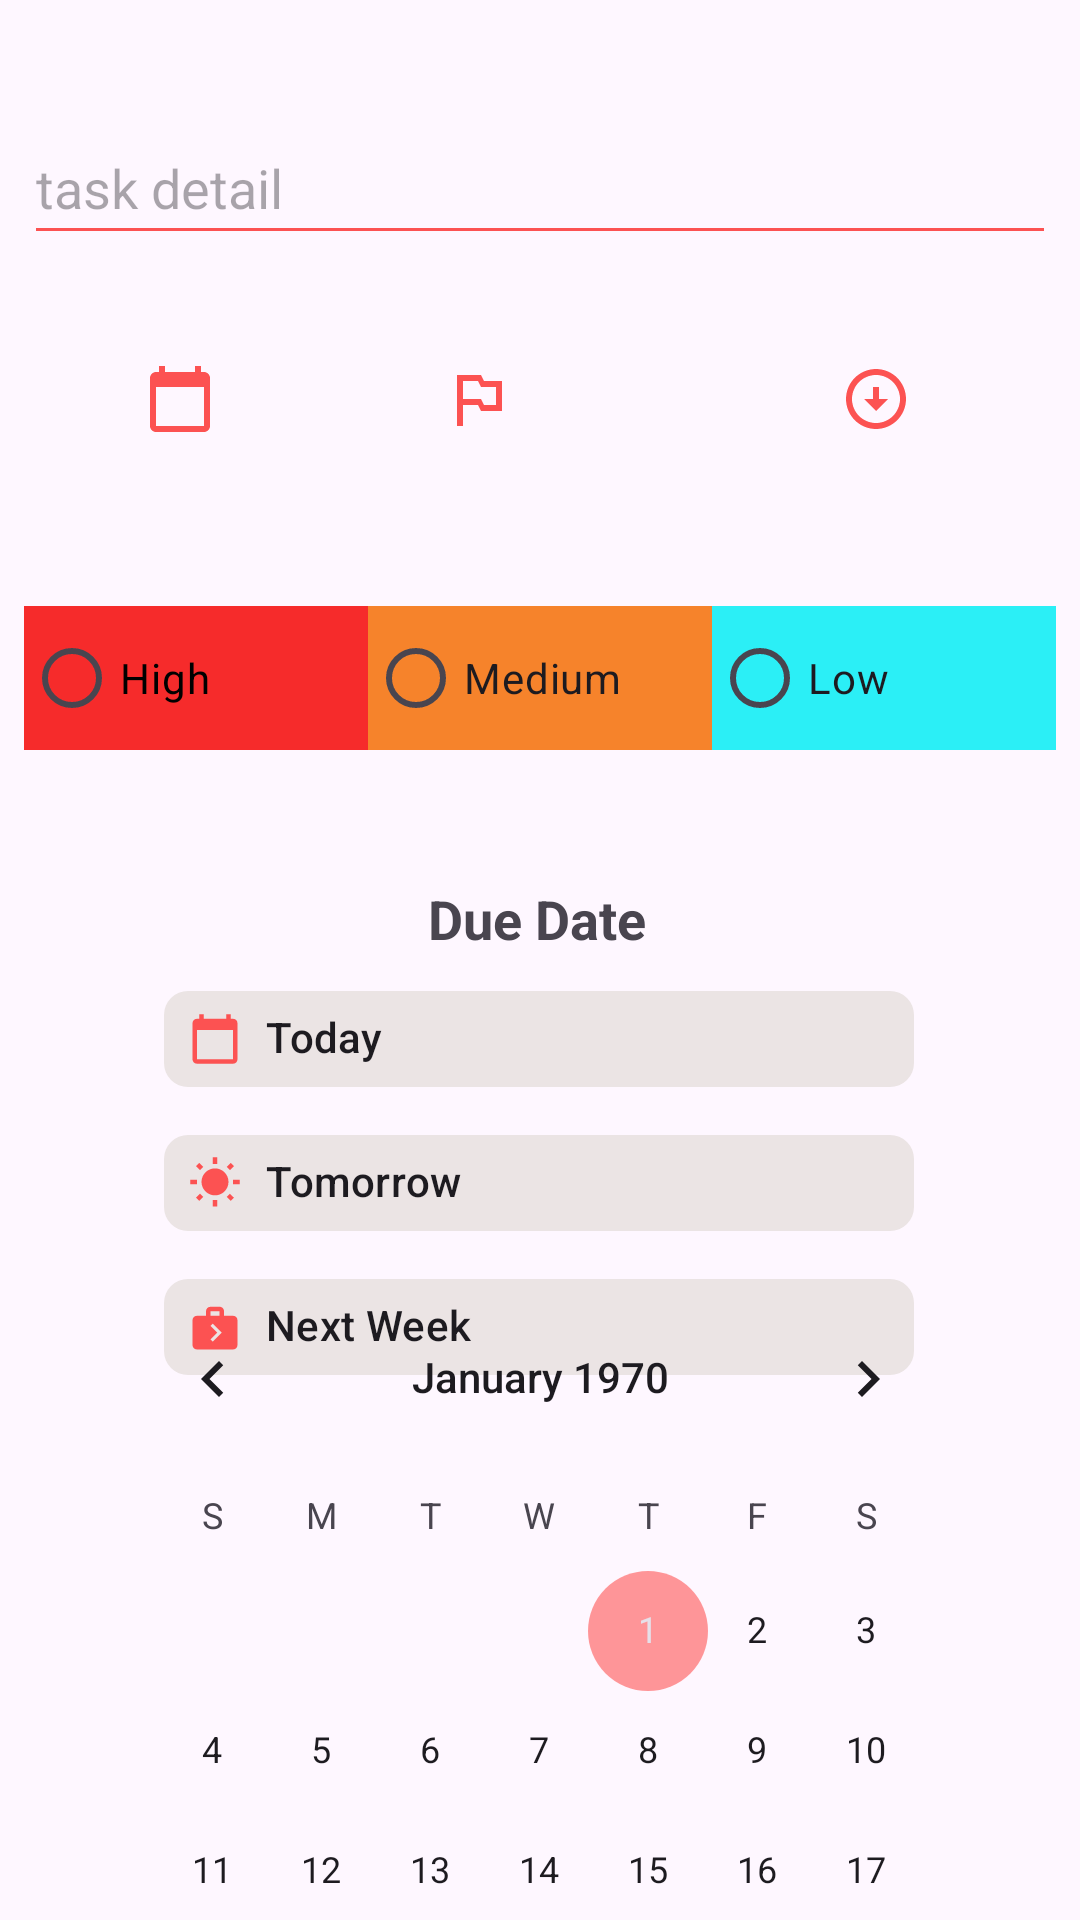

Icon click points for this 1080px x 1920px phone screenshot, format (x,y):
arrow circle down: (876,399)
calendar today: (180,399)
flag: (479,400)
